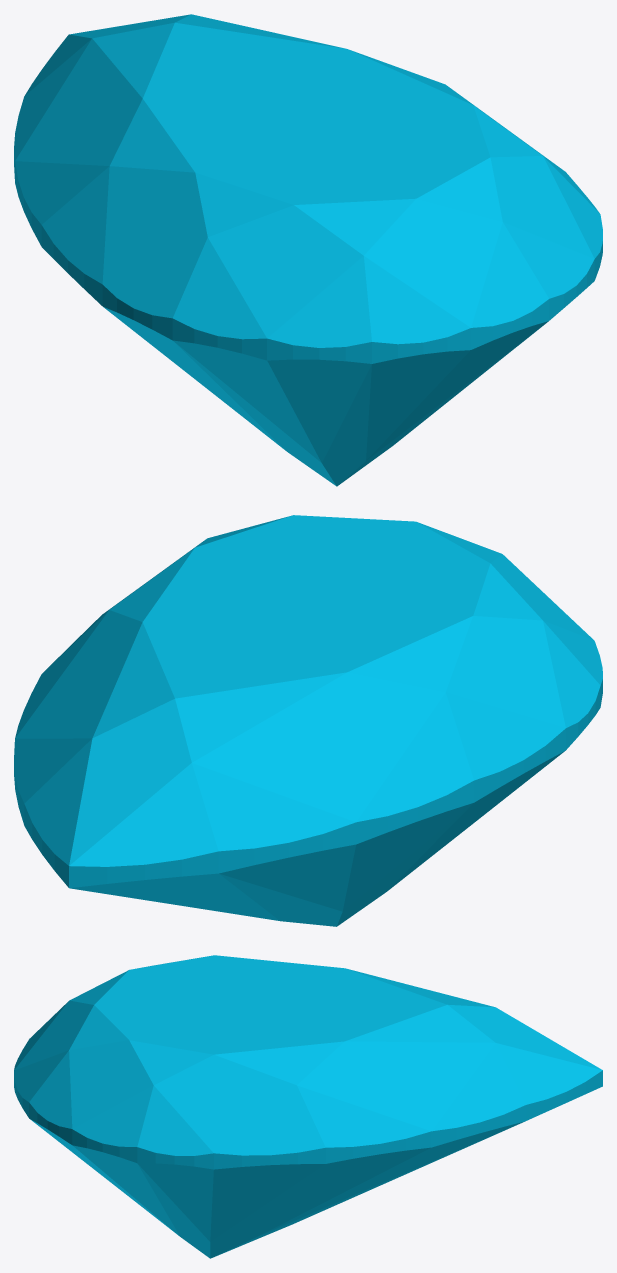
File: Head_Single Halo_Pear_1.5ct_Diamond.glb
The picture shows the model from 3 angles, top to bottom: view 1: azimuth 30°, elevation 25°; view 2: azimuth 150°, elevation 25°; view 3: azimuth 270°, elevation 25°; orthographic projection. The views are drawn at different scales.
Bounding box in the file's own units: 0.00643 × 0.00459 × 0.00966.
